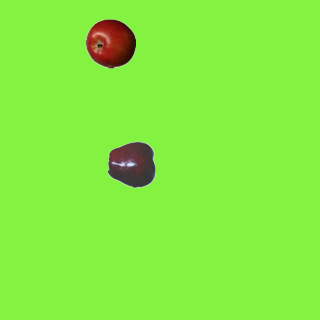Apple Braeburn: (85, 18, 135, 68)
Apple Red Delicious: (107, 139, 157, 189)
